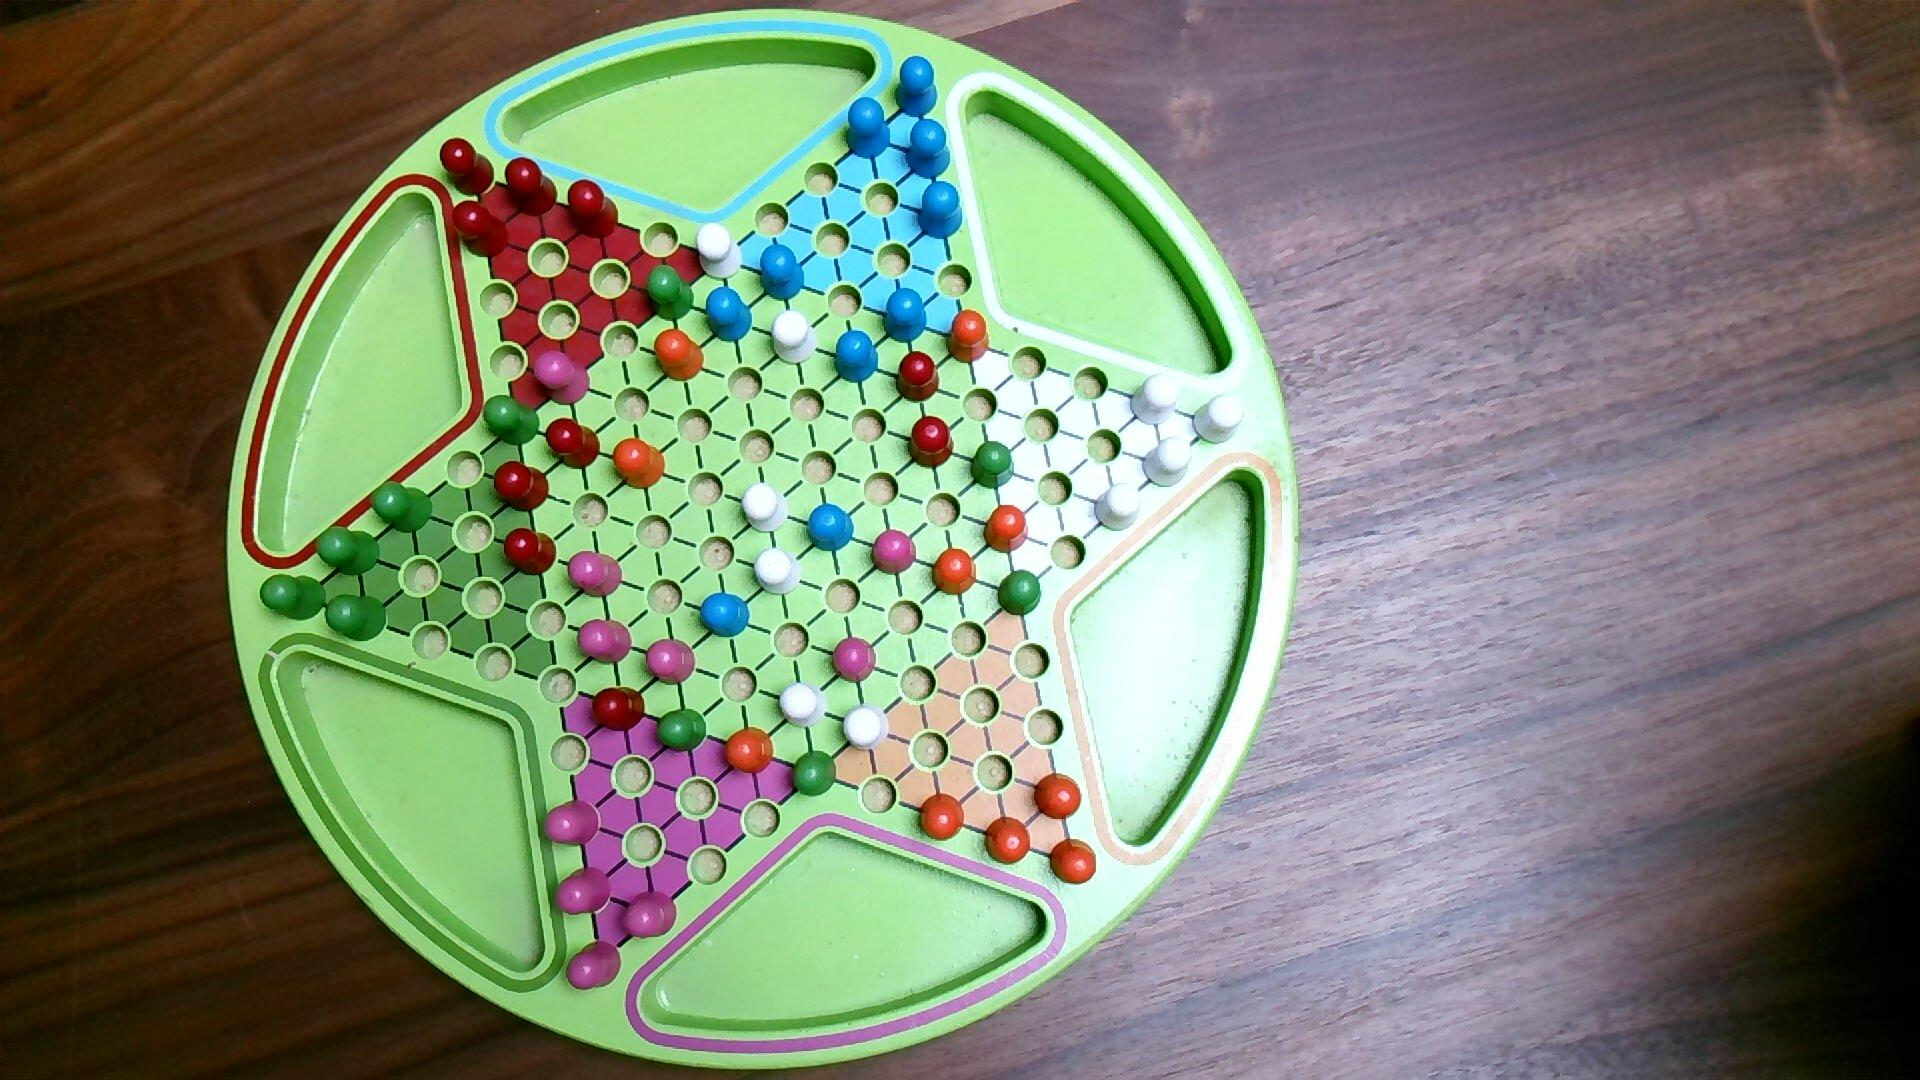B: (893, 55, 940, 120), (704, 286, 756, 345), (758, 243, 807, 305), (916, 179, 964, 243), (905, 117, 952, 181), (845, 98, 891, 161), (832, 328, 881, 386), (881, 287, 928, 345), (804, 502, 856, 554), (699, 592, 753, 641)
G: (369, 479, 435, 535), (315, 524, 382, 578), (258, 574, 328, 624), (644, 264, 698, 324), (481, 394, 542, 448), (324, 593, 389, 644), (654, 707, 709, 756), (790, 749, 839, 799), (969, 440, 1017, 491), (996, 568, 1043, 618)
O: (611, 436, 667, 492), (944, 309, 993, 367), (654, 328, 705, 382), (723, 727, 777, 775), (916, 793, 967, 844), (982, 815, 1033, 866), (1033, 771, 1084, 822), (1048, 837, 1098, 887), (931, 546, 978, 597), (984, 504, 1030, 555)
R: (438, 136, 497, 199), (450, 200, 512, 260), (502, 156, 559, 220), (491, 460, 553, 516), (566, 178, 620, 241), (545, 417, 603, 472), (502, 527, 559, 578), (906, 414, 956, 471), (591, 686, 647, 733), (895, 349, 942, 404)
R2: (531, 349, 593, 407), (564, 939, 624, 993), (553, 865, 613, 918), (541, 798, 603, 849), (566, 549, 625, 601), (620, 890, 679, 942), (576, 618, 634, 667), (644, 637, 698, 688), (829, 636, 880, 686), (869, 527, 918, 578)
W: (694, 222, 745, 284), (1127, 373, 1183, 429), (769, 309, 819, 367), (1141, 436, 1193, 491), (1193, 393, 1246, 447), (740, 483, 790, 535), (841, 702, 891, 753), (777, 680, 828, 731), (753, 547, 804, 597), (1093, 483, 1143, 533)
